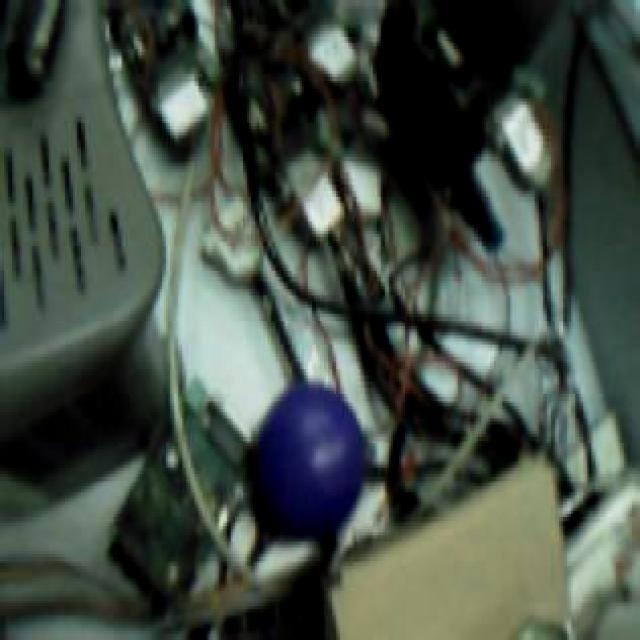BallPurple: (249, 382, 366, 535)
